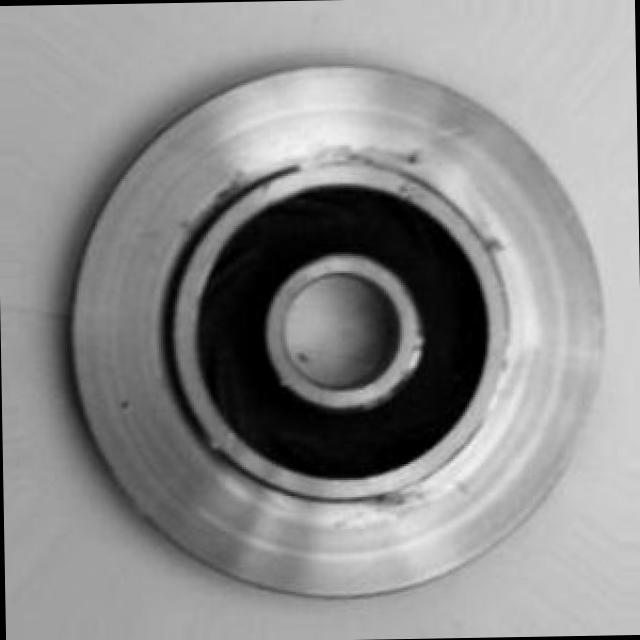Defect: (364, 480, 426, 517)
